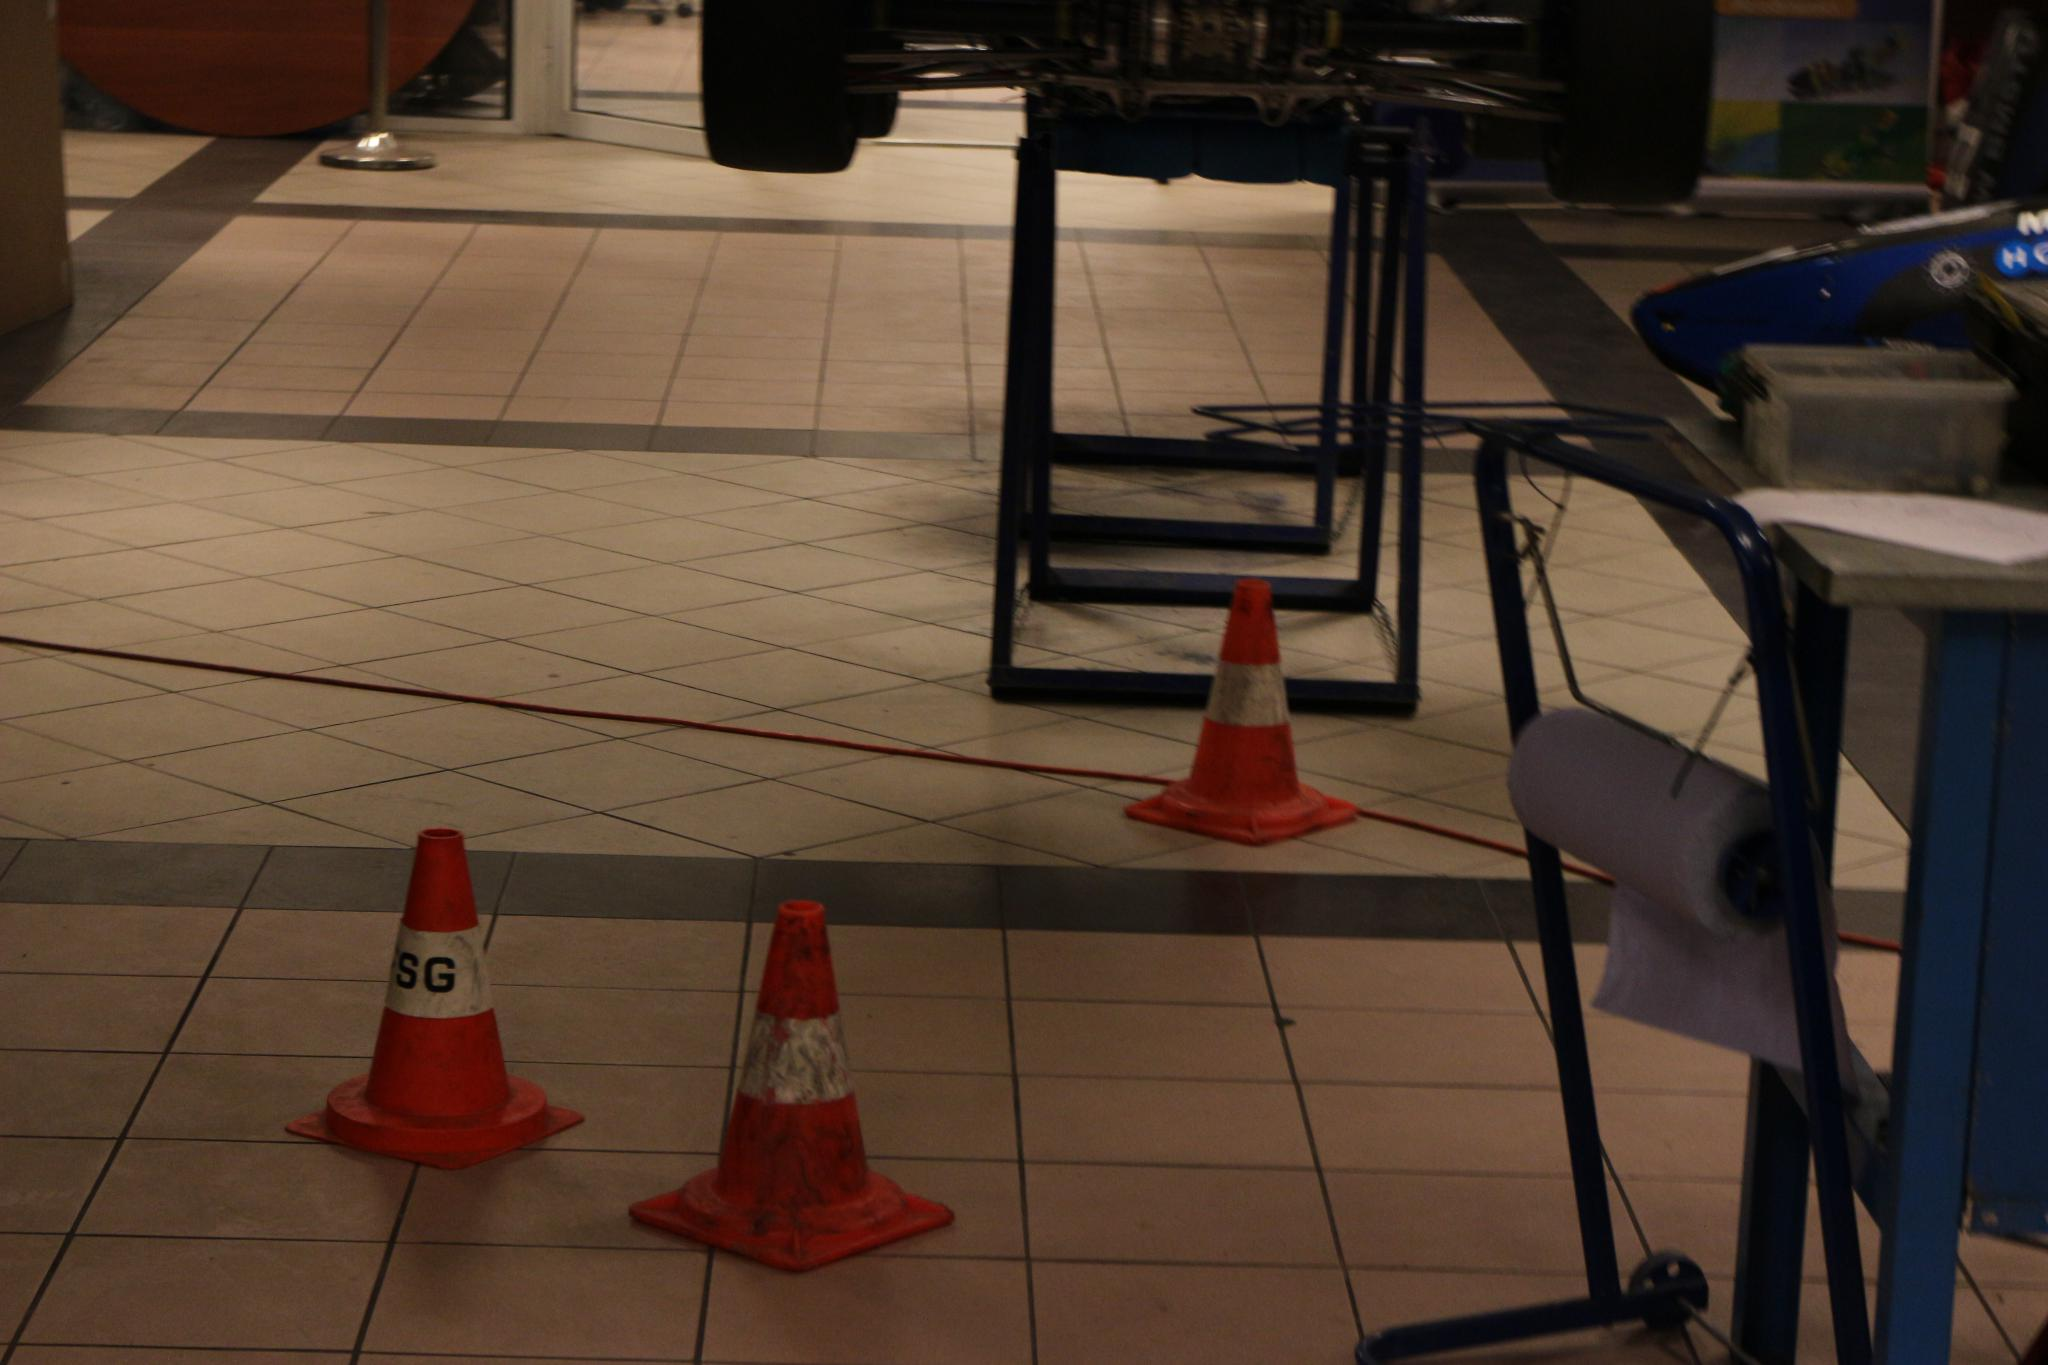Orange_Cone: (620, 882, 959, 1277), (288, 817, 574, 1176), (1113, 574, 1348, 850)
